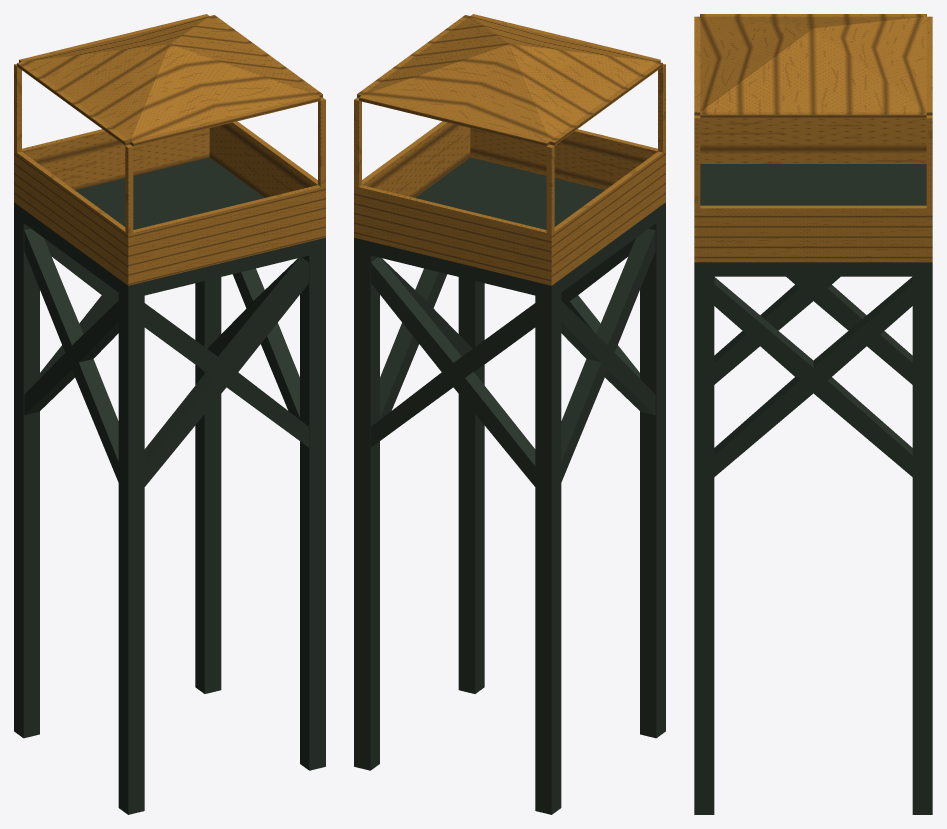
File: Tower 1.fbx
3 views of the same model, side by side, from view 1: azimuth 30°, elevation 25°; view 2: azimuth 150°, elevation 25°; view 3: azimuth 270°, elevation 25° (orthographic). The views are drawn at different scales.
Parts seen in each view (by area): view 1: Main Tower Body, Upper Tower Room; view 2: Main Tower Body, Upper Tower Room; view 3: Main Tower Body, Upper Tower Room.
Part boxes in pixels (left/top/right/bottom): Main Tower Body: left=14, top=157, right=325, bottom=814; Upper Tower Room: left=14, top=14, right=325, bottom=285; Main Tower Body: left=354, top=157, right=665, bottom=814; Upper Tower Room: left=354, top=14, right=665, bottom=285; Main Tower Body: left=694, top=164, right=932, bottom=814; Upper Tower Room: left=694, top=14, right=932, bottom=262.
Bounding box in the file's own units: 600 × 2045 × 600.
Materials: 2 (1 with a texture image).
